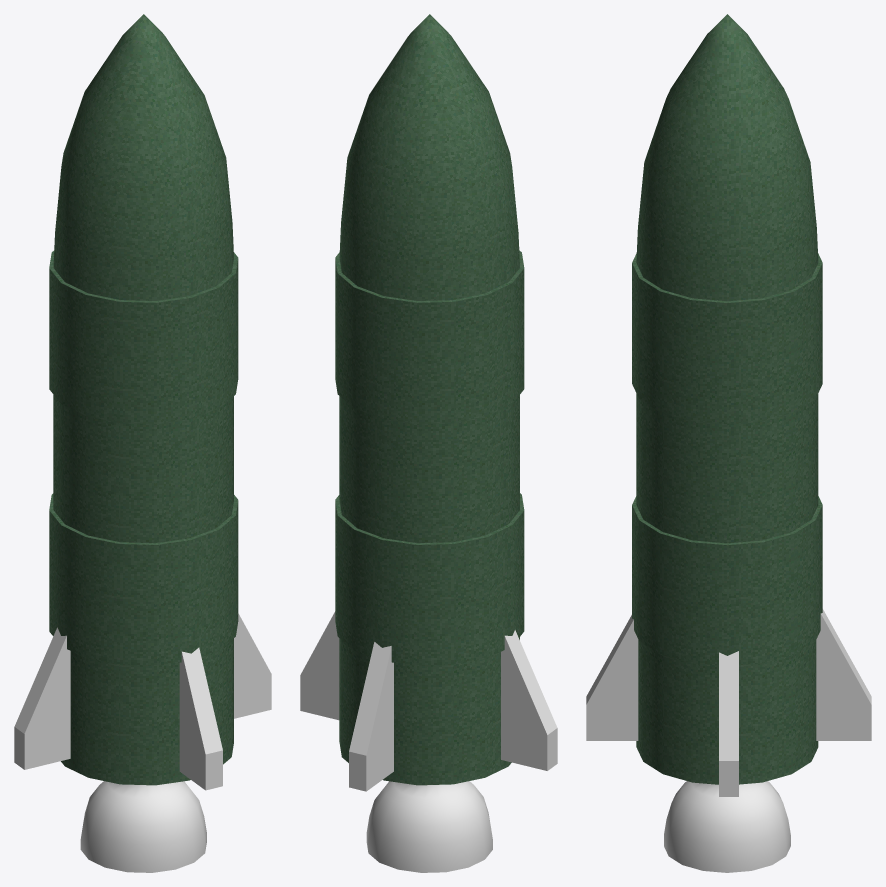
The model's file is Rocket.fbx.
The picture shows the model from 3 angles, left to right: view 1: azimuth 30°, elevation 25°; view 2: azimuth 150°, elevation 25°; view 3: azimuth 270°, elevation 25°; orthographic projection.
Visible parts, largest first — view 1: Rocket; view 2: Rocket; view 3: Rocket.
Boxes of the visible parts, box(x1,y1,x2,y2) form: Rocket: box(14, 14, 271, 872); Rocket: box(300, 14, 557, 872); Rocket: box(586, 14, 871, 872).
Size of the model in its own units: 9.72 by 9.72 by 31.29.
